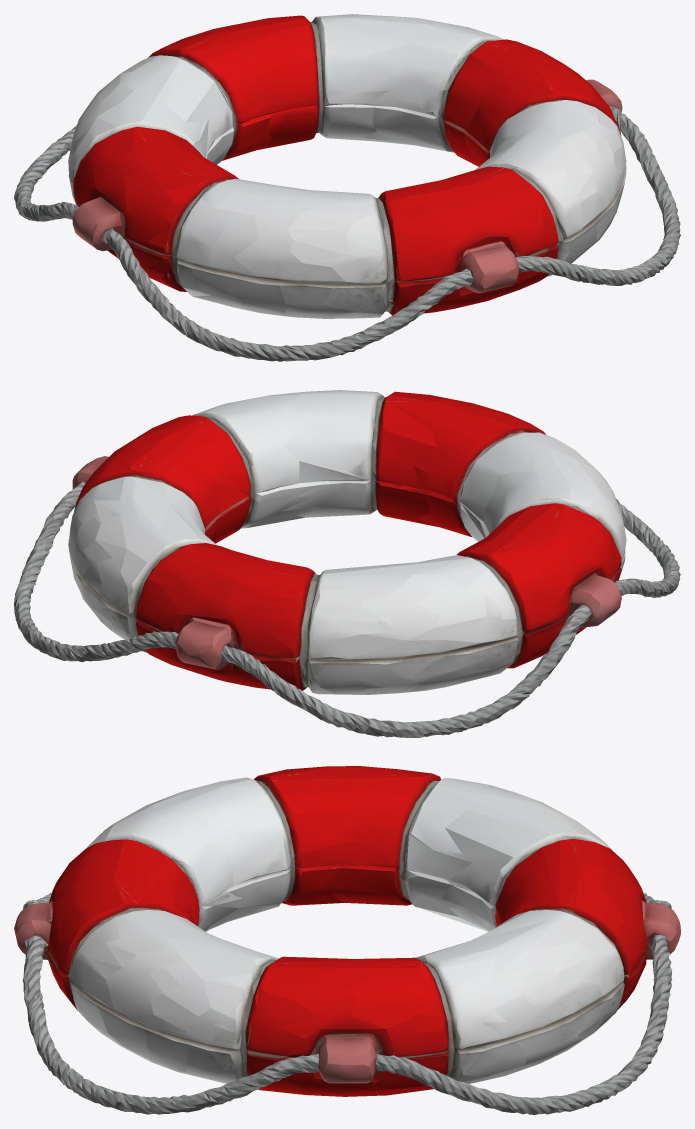
File: salvagente_nave.glb
The picture shows the model from 3 angles, top to bottom: view 1: azimuth 30°, elevation 25°; view 2: azimuth 150°, elevation 25°; view 3: azimuth 270°, elevation 25°; orthographic projection. The views are drawn at different scales.
Parts seen in each view (by area): view 1: Mesh_0; view 2: Mesh_0; view 3: Mesh_0.
Part boxes in pixels (<box>): Mesh_0: <box>14,14,680,361</box>; Mesh_0: <box>14,390,680,737</box>; Mesh_0: <box>14,766,680,1114</box>.
Bounding box in the file's own units: 1.9 × 0.3939 × 1.9.
Materials: 1 (1 with a texture image).
